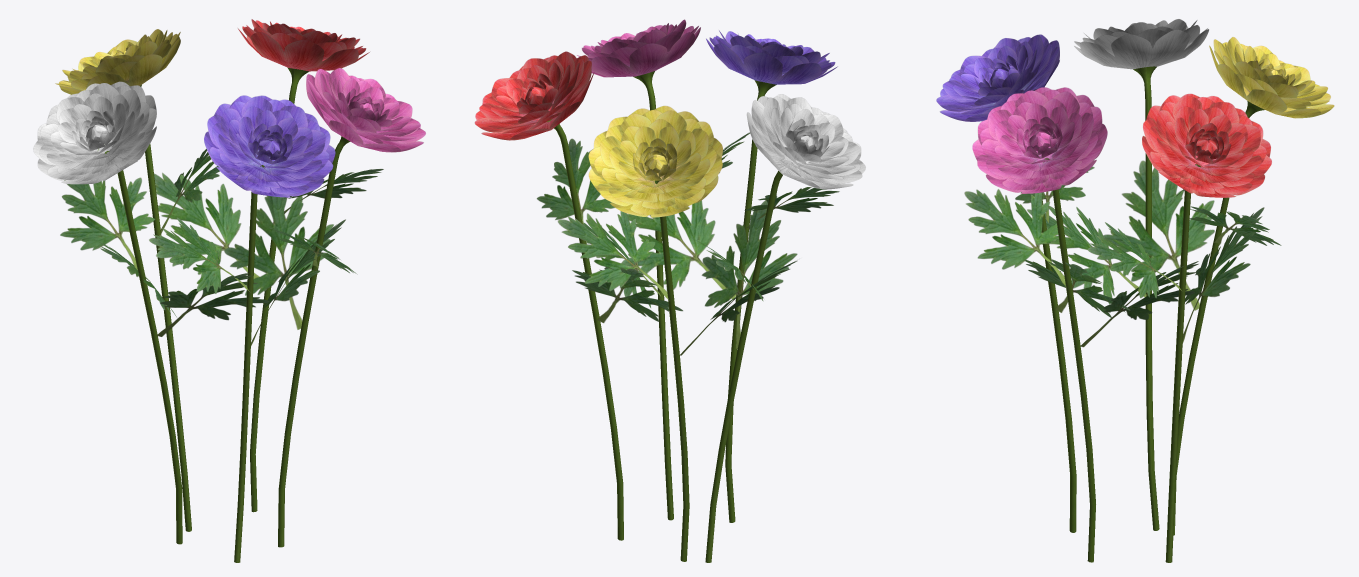
Rendered from generic_ranunculus_flower.glb.
3 renders of one model, left to right at view 1: azimuth 30°, elevation 25°; view 2: azimuth 150°, elevation 25°; view 3: azimuth 270°, elevation 25°, orthographic. The views are drawn at different scales.
Visible parts, largest first — view 1: Cylinder.004, Cylinder, Cylinder.001, Cylinder.002, Cylinder.003; view 2: Cylinder.003, Cylinder.004, Cylinder.002, Cylinder, Cylinder.001; view 3: Cylinder.001, Cylinder.002, Cylinder.003, Cylinder, Cylinder.004.
Boxes of the visible parts, left/top/right/bottom form: Cylinder.004: left=33, top=81, right=269, bottom=544; Cylinder: left=149, top=95, right=345, bottom=562; Cylinder.001: left=224, top=68, right=425, bottom=547; Cylinder.002: left=154, top=19, right=383, bottom=512; Cylinder.003: left=55, top=29, right=219, bottom=531; Cylinder.003: left=557, top=106, right=797, bottom=561; Cylinder.004: left=696, top=94, right=865, bottom=562; Cylinder.002: left=474, top=51, right=682, bottom=540; Cylinder: left=621, top=30, right=839, bottom=522; Cylinder.001: left=576, top=19, right=749, bottom=520; Cylinder.001: left=964, top=87, right=1198, bottom=562; Cylinder.002: left=1087, top=93, right=1271, bottom=562; Cylinder.003: left=1103, top=37, right=1334, bottom=535; Cylinder: left=936, top=34, right=1130, bottom=532; Cylinder.004: left=1027, top=19, right=1208, bottom=530.
Size of the model in its own units: 13.36 by 16.88 by 13.11.
Materials: 2 (2 with a texture image).
